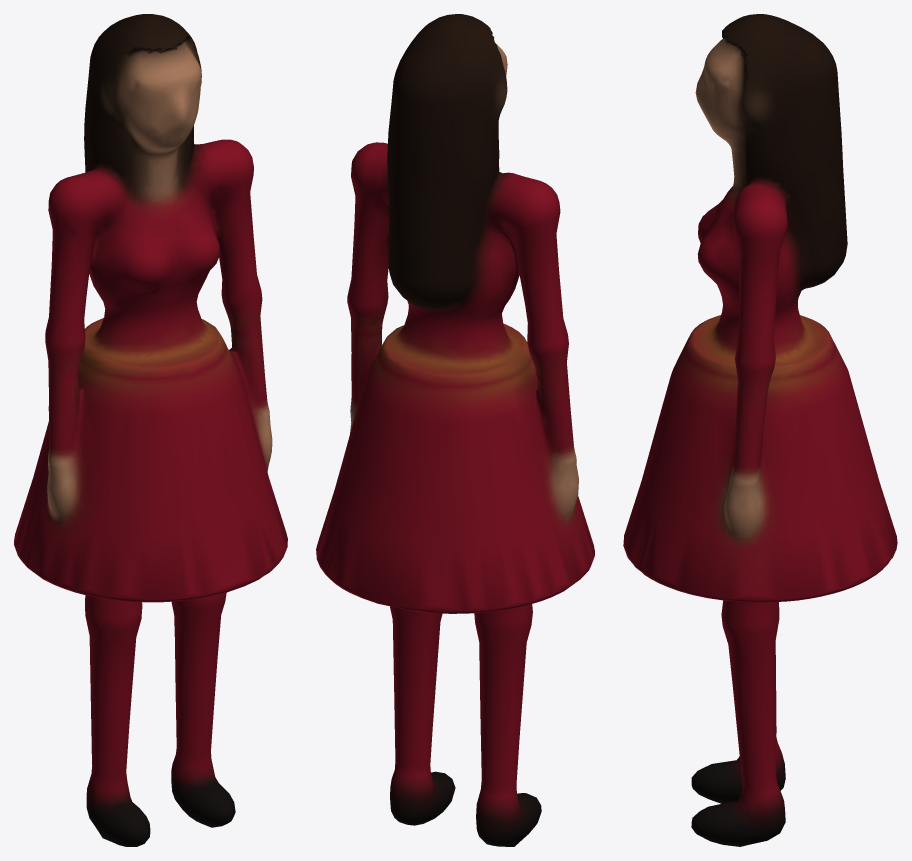
The model's file is lumiere-npc-patron-f1.glb.
The picture shows the model from 3 angles, left to right: view 1: azimuth 30°, elevation 25°; view 2: azimuth 150°, elevation 25°; view 3: azimuth 270°, elevation 25°; orthographic projection.
Visible parts, largest first — view 1: lumiere-npc-patron-f1_LOD0; view 2: lumiere-npc-patron-f1_LOD0; view 3: lumiere-npc-patron-f1_LOD0.
Part boxes in pixels (x1,y1,x2,y2): lumiere-npc-patron-f1_LOD0: [14, 14, 287, 846]; lumiere-npc-patron-f1_LOD0: [316, 14, 594, 846]; lumiere-npc-patron-f1_LOD0: [623, 14, 897, 846].
Size of what is drawn, in the model's own units: 0.5181 by 1.68 by 0.5182.
